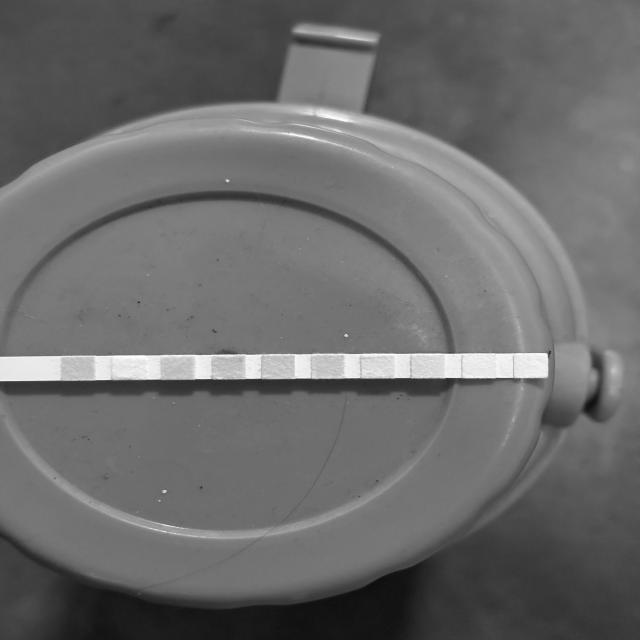Bilirubin: (114, 356, 144, 379)
Blood: (262, 356, 293, 379)
Glucose: (62, 356, 94, 379)
Ketone: (162, 356, 194, 379)
Leukocytes: (514, 353, 546, 377)
Nitrite: (463, 355, 494, 378)
Protein: (362, 355, 392, 378)
SpGravity: (213, 356, 244, 379)
Urobilinogen: (411, 354, 442, 377)
background: (0, 0, 640, 640)
pH: (312, 355, 342, 378)
strip: (8, 353, 547, 381)
